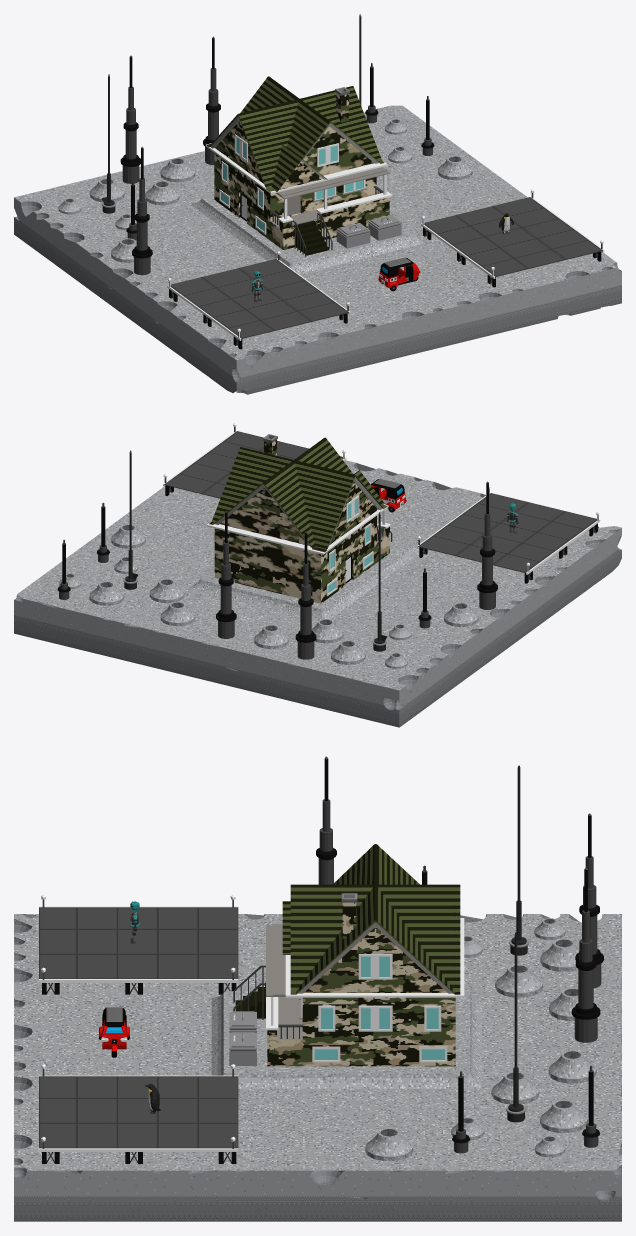
The picture shows the model from 3 angles, top to bottom: view 1: azimuth 30°, elevation 25°; view 2: azimuth 150°, elevation 25°; view 3: azimuth 270°, elevation 25°; orthographic projection. The views are drawn at different scales.
Parts seen in each view (by area): view 1: Cube.027, Cube.002, Cube.026, Cube.025, Cube.028, Cylinder.020, Cylinder.021, Cylinder.017, VEHICLES_TUC_TUC, Cube.029, Cube.030, Cylinder.027 (+3 smaller); view 2: Cube.027, Cube.002, Cube.025, Cube.028, Cube.026, Cylinder.020, Cylinder.021, Cylinder.017, VEHICLES_TUC_TUC, Cylinder.031, Cylinder.028, Cylinder.029 (+7 smaller); view 3: Cube.027, Cube.002, Cube.025, Cube.026, Cube.028, Cylinder.017, Cylinder.020, Cylinder.021, Cylinder.033, Cylinder.031, VEHICLES_TUC_TUC, Cylinder.029 (+9 smaller).
Boxes of the visible parts, x1,y1,x2,y2 form: Cube.027: [14, 105, 621, 394]; Cube.002: [205, 76, 392, 256]; Cube.026: [421, 189, 604, 287]; Cube.025: [167, 251, 350, 349]; Cube.028: [191, 195, 424, 274]; Cylinder.020: [120, 55, 140, 183]; Cylinder.021: [132, 146, 152, 275]; Cylinder.017: [203, 36, 220, 164]; VEHICLES_TUC_TUC: [378, 257, 420, 291]; Cube.029: [336, 222, 370, 248]; Cube.030: [368, 215, 401, 240]; Cylinder.027: [160, 158, 195, 182]; Cube.027: [14, 460, 621, 727]; Cube.002: [206, 434, 392, 603]; Cube.025: [417, 485, 600, 583]; Cube.028: [190, 538, 419, 620]; Cube.026: [163, 423, 346, 498]; Cylinder.020: [295, 531, 316, 659]; Cylinder.021: [477, 481, 497, 609]; Cylinder.017: [216, 510, 236, 638]; VEHICLES_TUC_TUC: [370, 479, 406, 512]; Cylinder.031: [89, 581, 124, 605]; Cylinder.028: [331, 640, 365, 664]; Cylinder.029: [160, 601, 195, 626]; Cube.027: [14, 914, 621, 1221]; Cube.002: [233, 844, 464, 1066]; Cube.025: [39, 895, 238, 994]; Cube.026: [39, 1064, 238, 1163]; Cube.028: [211, 991, 481, 1088]; Cylinder.017: [571, 867, 600, 1042]; Cylinder.020: [575, 813, 603, 988]; Cylinder.021: [316, 756, 336, 884]; Cylinder.033: [365, 1128, 413, 1160]; Cylinder.031: [540, 1100, 587, 1132]; VEHICLES_TUC_TUC: [99, 1007, 129, 1057]; Cylinder.029: [548, 1050, 596, 1083].
Bounding box in the file's own units: 4000 × 1807 × 4000.
Materials: 37 (6 with a texture image).
